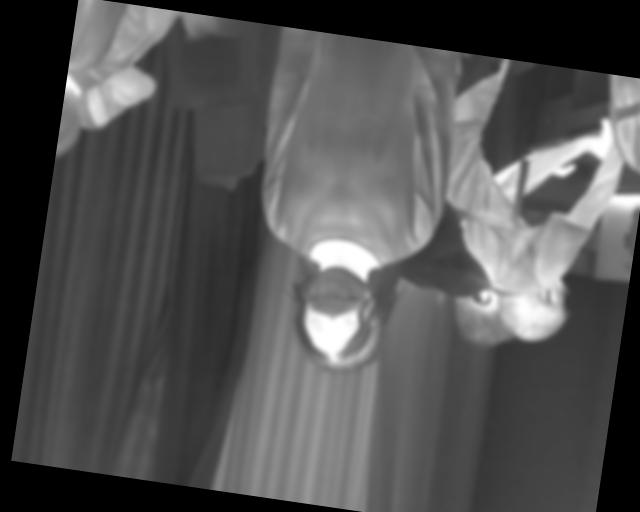face: (289, 261, 390, 378)
